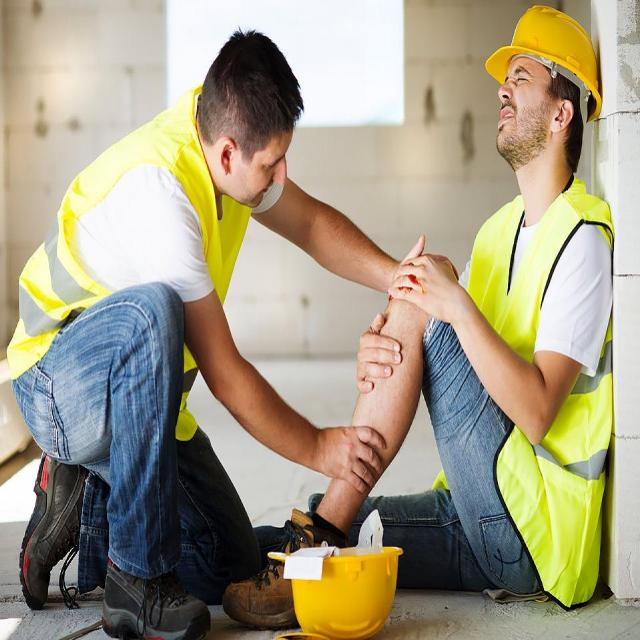Reflective-Jacket: (8, 107, 227, 414), (462, 178, 616, 607)
Safety-Helmet: (482, 1, 606, 111)
